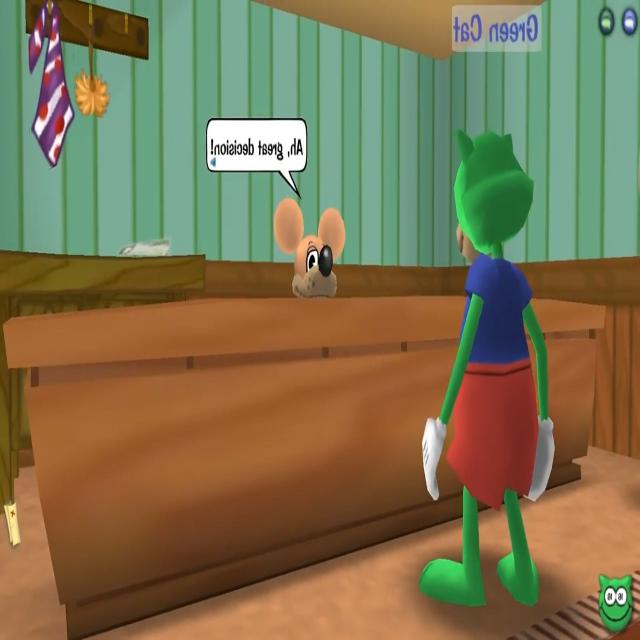npc: (275, 202, 346, 301)
